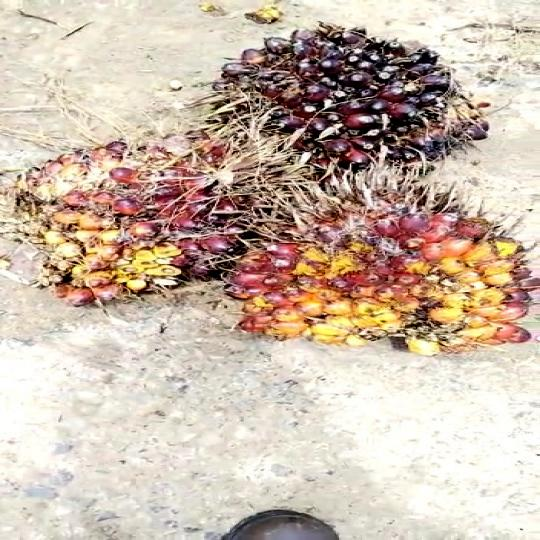masak: (204, 171, 540, 374), (173, 13, 503, 178), (0, 140, 253, 290)
